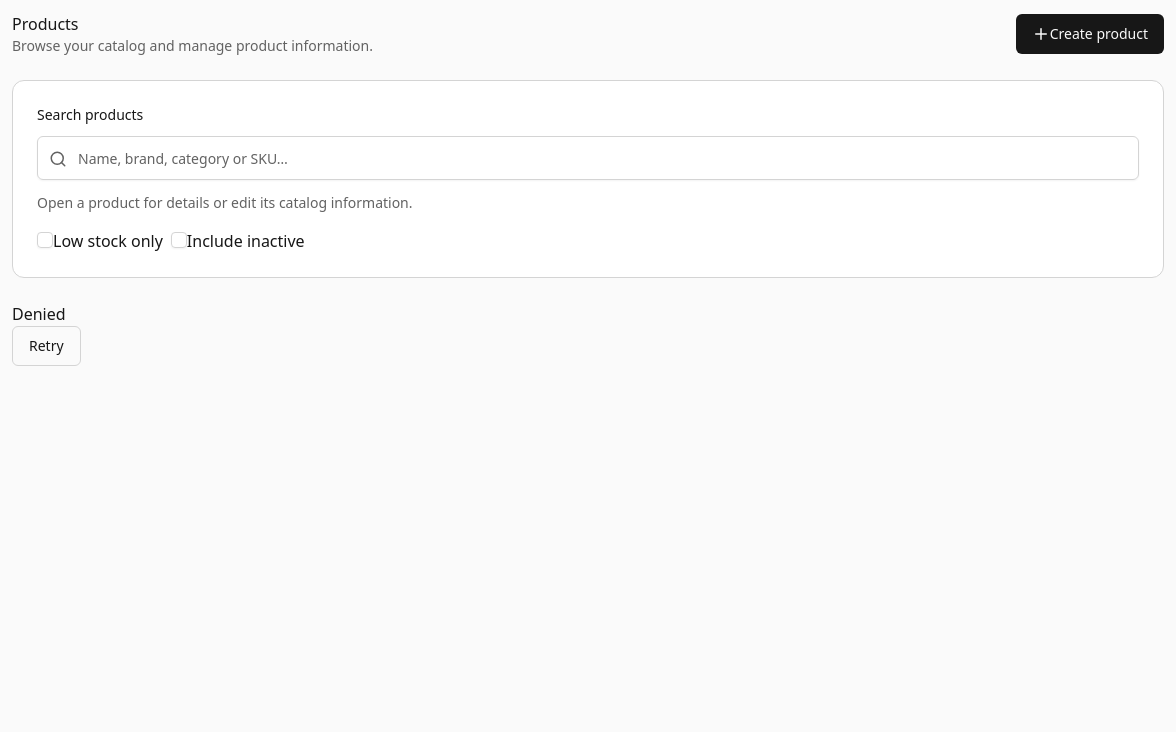
Scenario: empty products and failed read retry
The image size is (1176, 732).
Expected: the text "Denied" is shown, [12,303,66,325]
Click the button "Retry": (46, 346) [12,326,81,366]
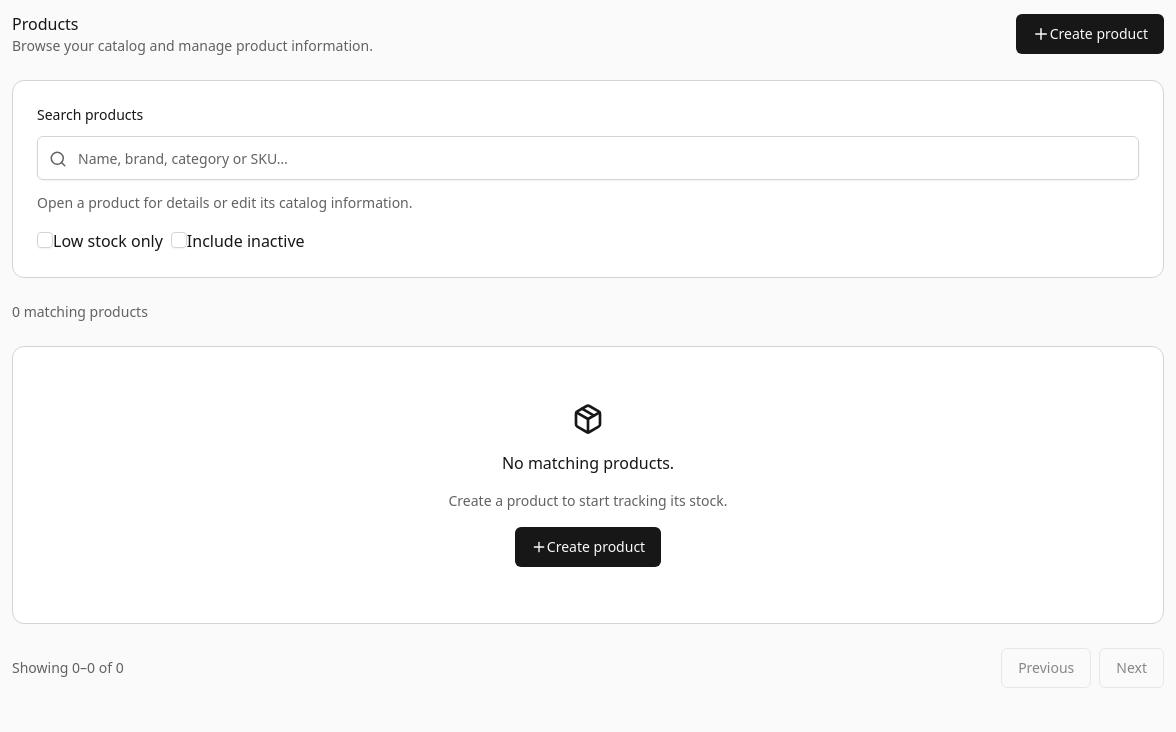
Result: the heading "No matching products." is shown at [502,451,674,475]
